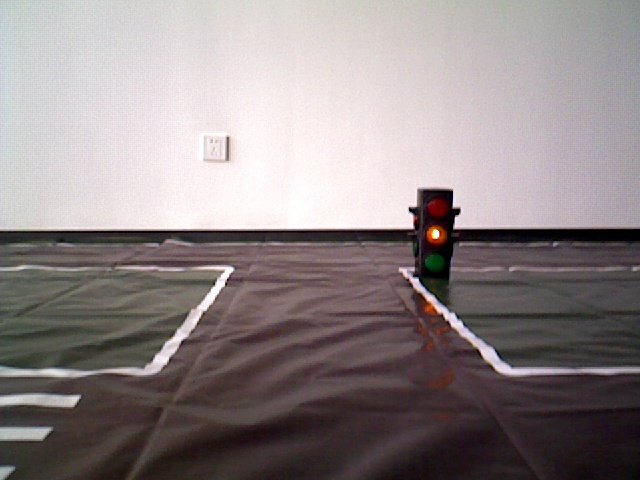yellow: (414, 189, 452, 275)
